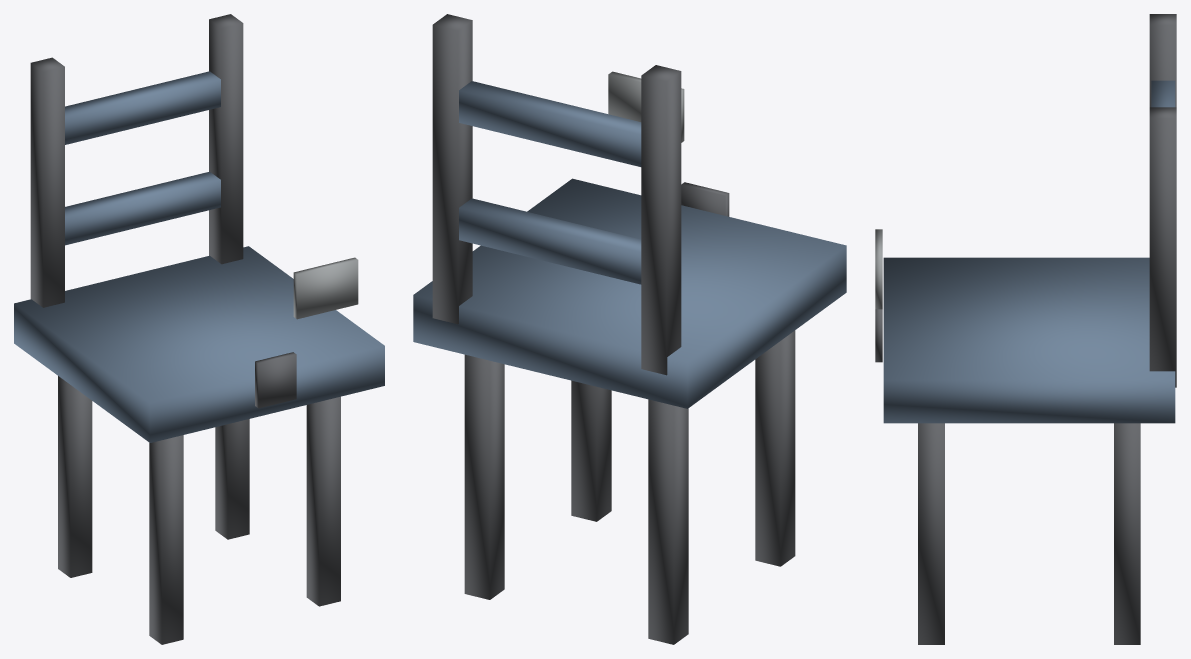
The model's file is armchair__weathered.glb.
3 views of the same model, side by side, from view 1: azimuth 30°, elevation 25°; view 2: azimuth 150°, elevation 25°; view 3: azimuth 270°, elevation 25° (orthographic). The views are drawn at different scales.
Visible parts, largest first — view 1: world; view 2: world; view 3: world.
Part boxes in pixels (x1,y1,x2,y2): world: (14,14,384,644); world: (413,14,846,644); world: (875,14,1176,644).
Bounding box in the file's own units: 0.4846 × 0.9793 × 0.5032.
